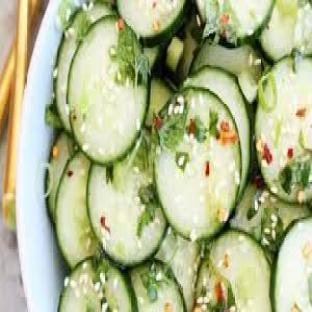Cucumber: (154, 88, 241, 239), (68, 17, 149, 163), (88, 136, 166, 265), (185, 67, 250, 194), (255, 58, 311, 202), (55, 4, 113, 131), (196, 231, 271, 311), (231, 184, 310, 252), (56, 153, 98, 267), (192, 39, 262, 102), (59, 257, 137, 311), (272, 218, 311, 311), (155, 229, 199, 311), (131, 260, 186, 311), (46, 132, 73, 222), (59, 259, 100, 311), (146, 78, 173, 126), (166, 38, 184, 72), (144, 45, 163, 70)
